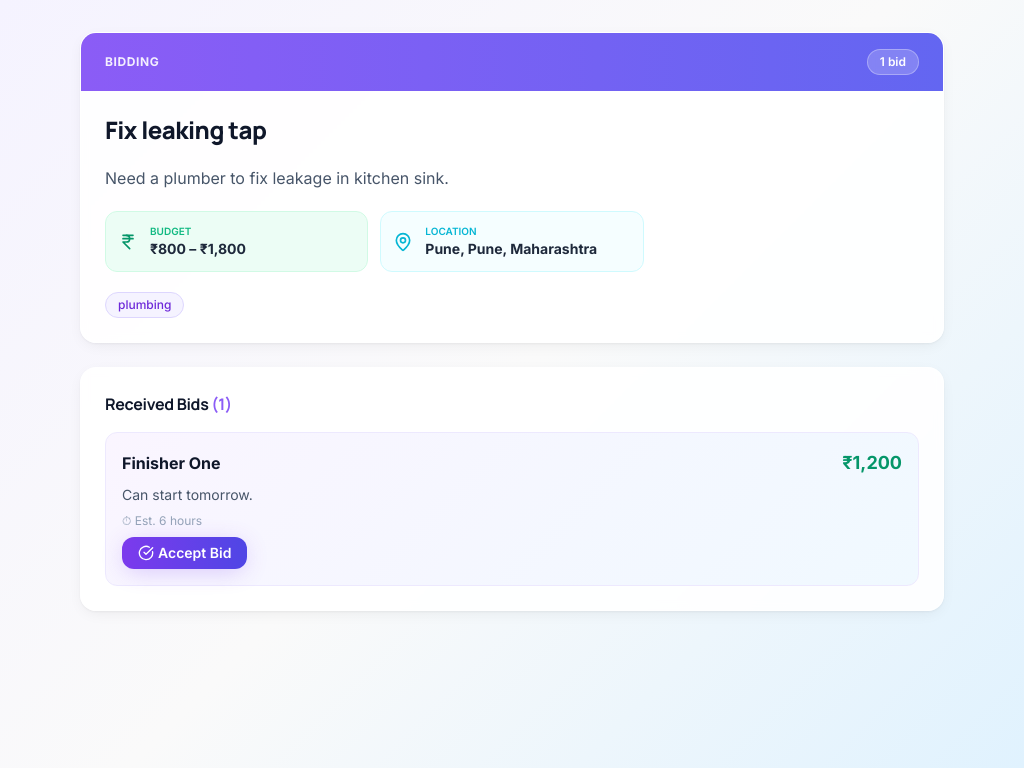
Scenario: TaskDetailPage bidding integration › allows a publisher to accept a bid and refreshes bid state
Click the button "Accept Bid" at point(185, 553), box [122,537,247,569]
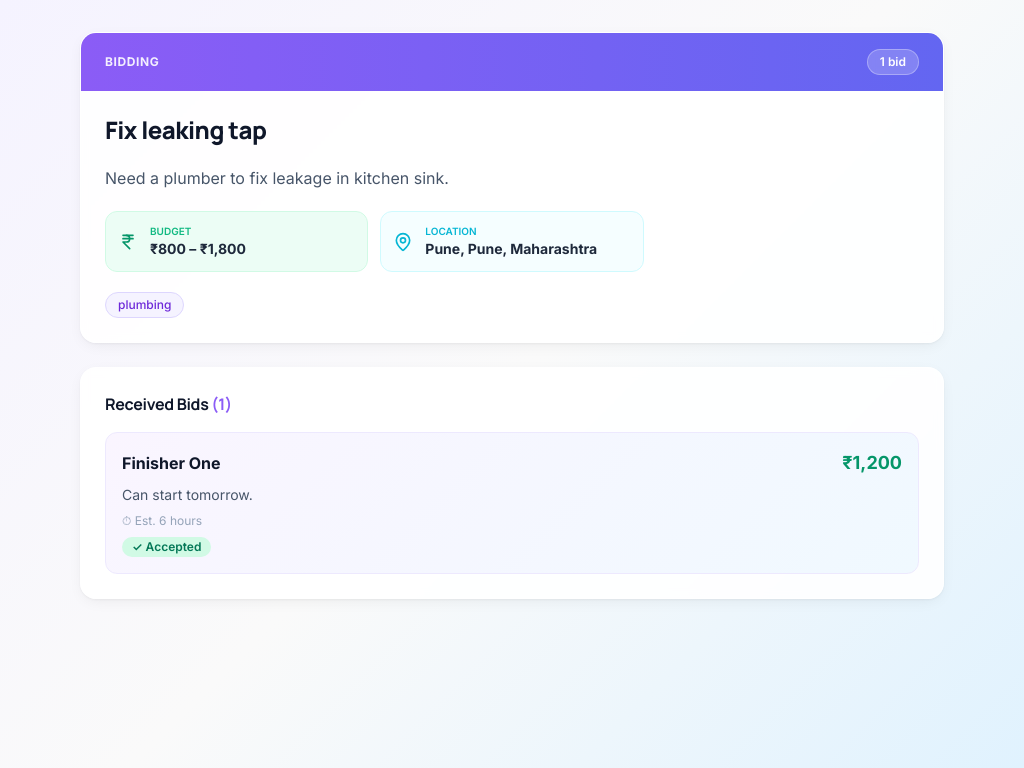
expect the text "✓ Accepted" is shown: met, box [122,537,211,557]
